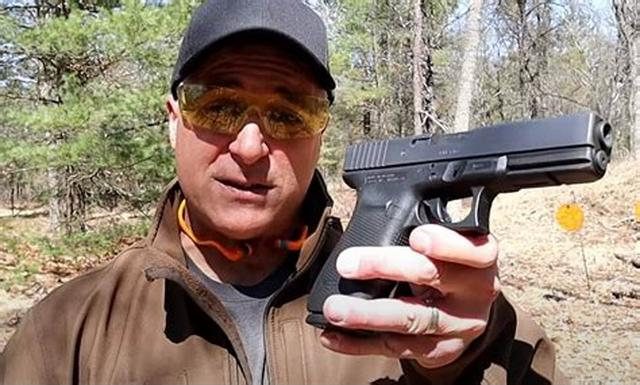handgun: (303, 107, 619, 349)
